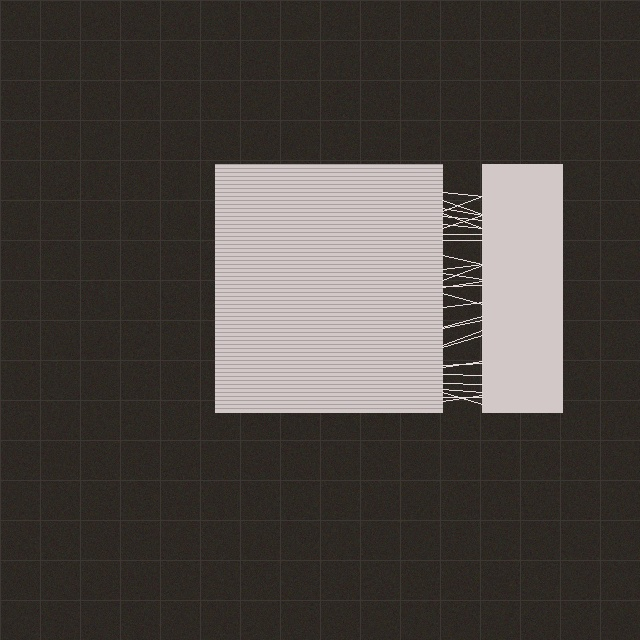stringing: (437, 164, 487, 412)
